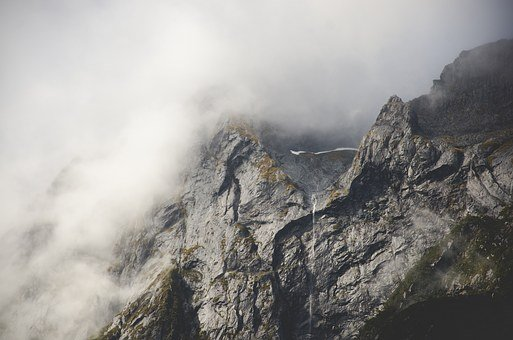mountain: (46, 63, 513, 335)
